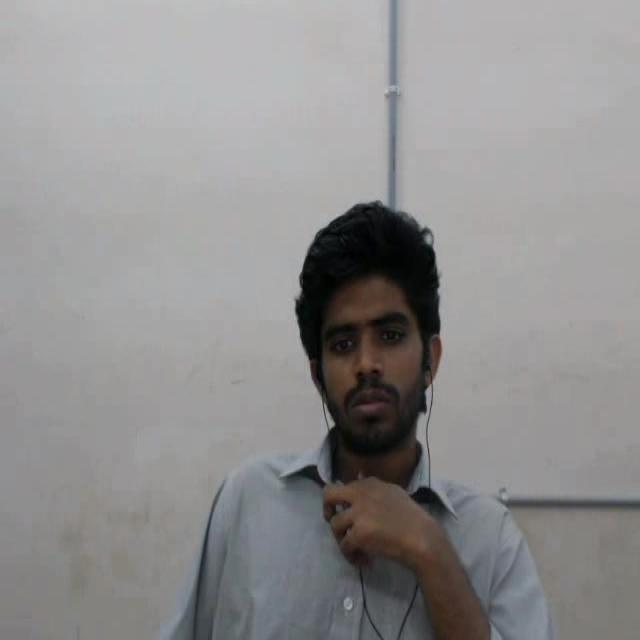Engaged: (281, 174, 481, 473)
